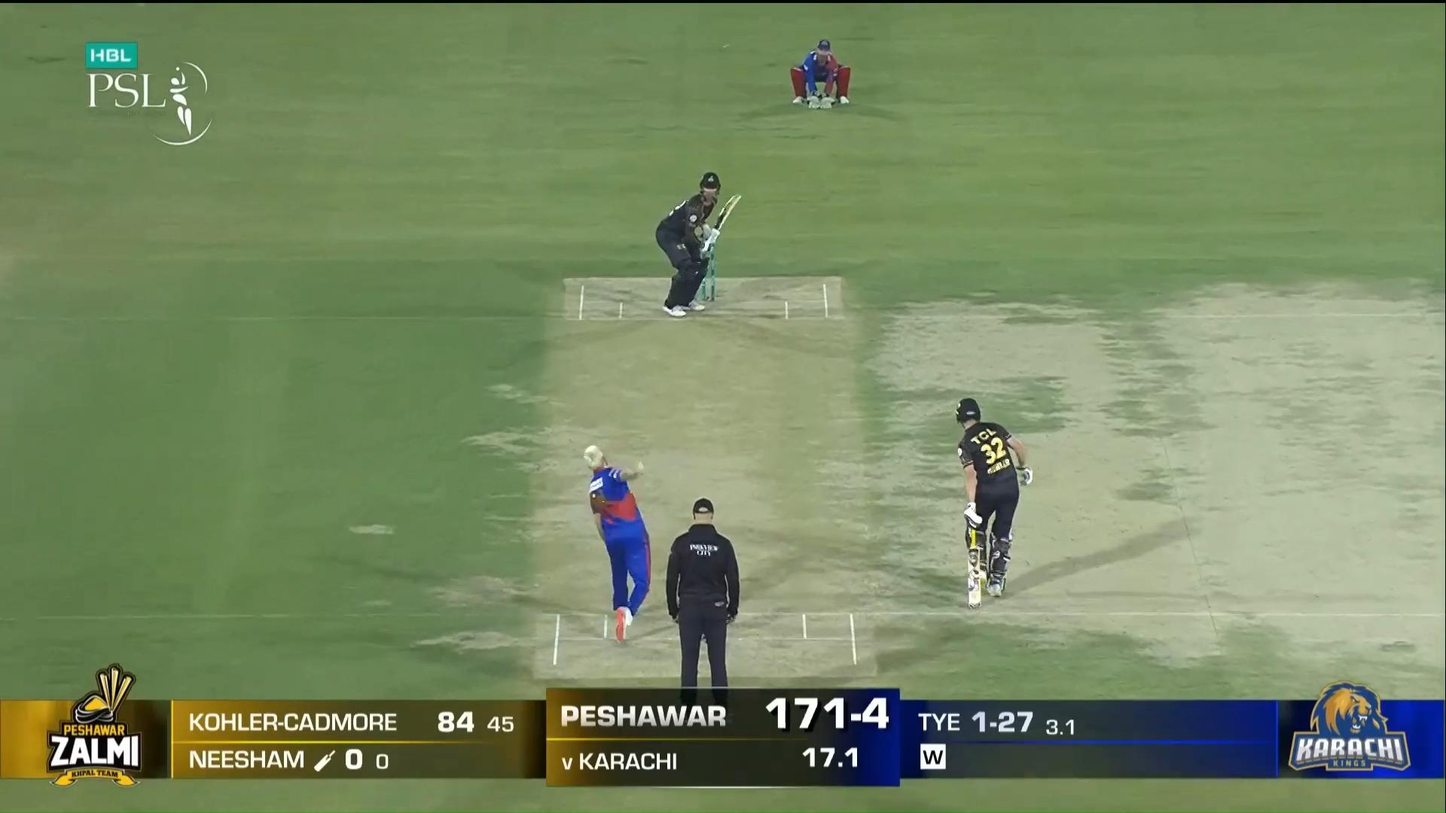batsman: (656, 172, 742, 317)
